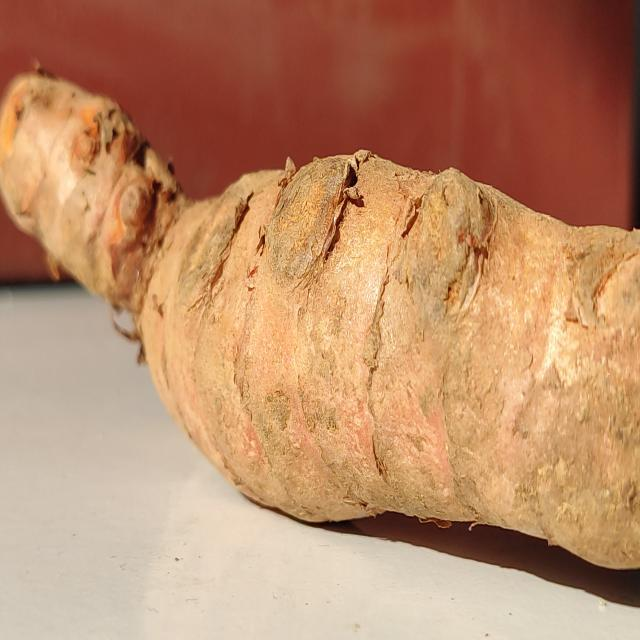ginger: (18, 60, 640, 543)
